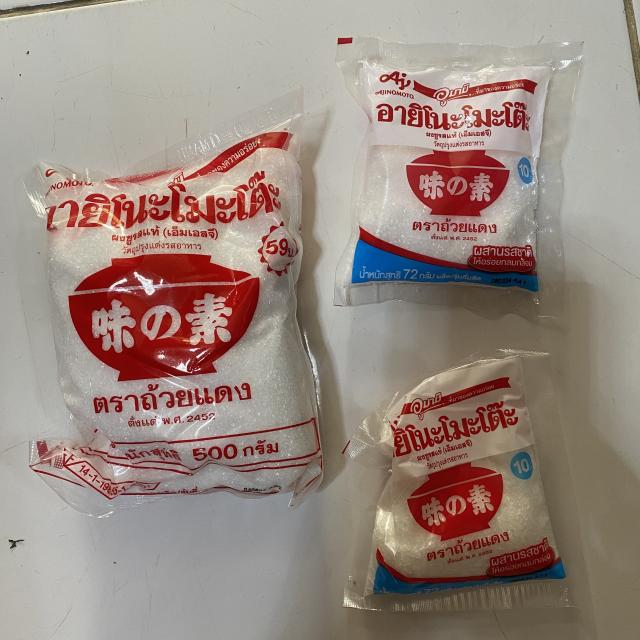plastik: (25, 90, 322, 516), (335, 38, 582, 316), (344, 350, 584, 611)
